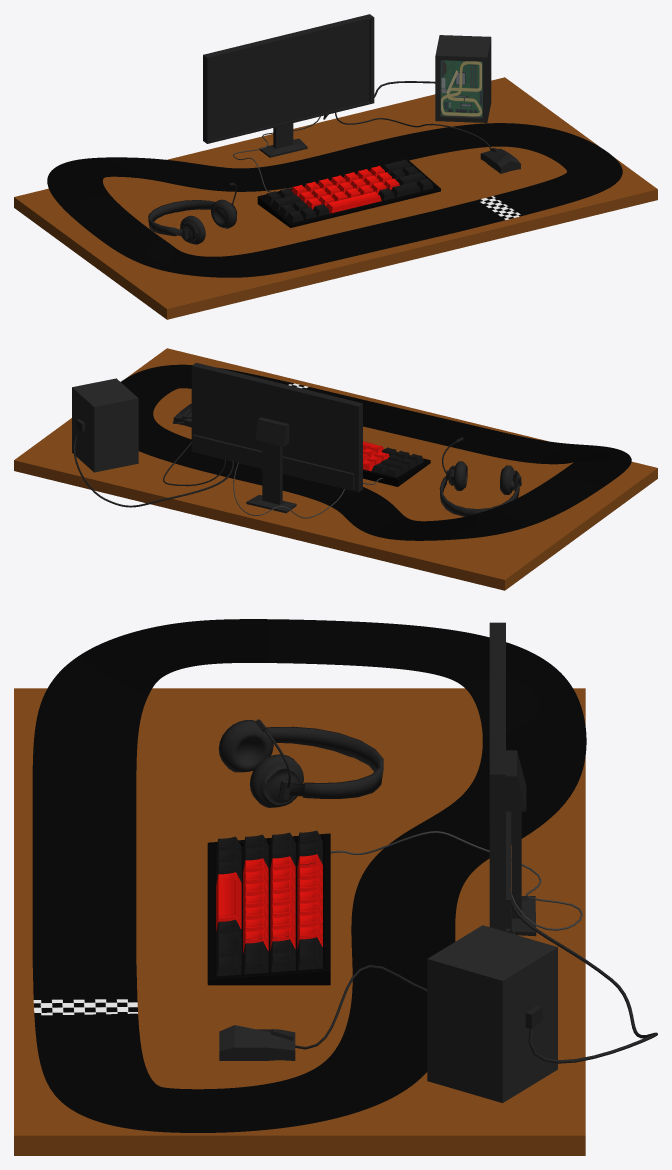
The model's file is HelpDesk.glb.
3 views of the same model, one above another, from view 1: azimuth 30°, elevation 25°; view 2: azimuth 150°, elevation 25°; view 3: azimuth 270°, elevation 25° (orthographic). The views are drawn at different scales.
Parts seen in each view (by area): view 1: table, Plane, monitor, keys, PC, headphoneSpek, keyBOARD, mouse; view 2: table, Plane, monitor, PC, headphoneSpek, keys, keyBOARD, pc wire; view 3: table, Plane, PC, keys, monitor, headphoneSpek, keyBOARD, mouse, pc wire, keyboardWire.
Part boxes in pixels (x1=…): table: x1=14, y1=77, x2=657, y2=319; Plane: x1=47, y1=123, x2=622, y2=277; monitor: x1=203, y1=14, x2=374, y2=157; keys: x1=264, y1=159, x2=433, y2=222; PC: x1=435, y1=35, x2=491, y2=122; headphoneSpek: x1=148, y1=199, x2=237, y2=244; keyBOARD: x1=257, y1=160, x2=440, y2=227; mouse: x1=480, y1=148, x2=520, y2=173; table: x1=14, y1=348, x2=657, y2=590; Plane: x1=121, y1=364, x2=631, y2=540; monitor: x1=191, y1=362, x2=362, y2=513; PC: x1=72, y1=378, x2=138, y2=472; headphoneSpek: x1=439, y1=461, x2=521, y2=516; keys: x1=363, y1=441, x2=423, y2=477; keyBOARD: x1=363, y1=449, x2=430, y2=486; pc wire: x1=73, y1=430, x2=233, y2=507; table: x1=14, y1=688, x2=585, y2=1155; Plane: x1=32, y1=619, x2=586, y2=1132; PC: x1=427, y1=925, x2=557, y2=1102; keys: x1=216, y1=830, x2=322, y2=976; monitor: x1=489, y1=622, x2=536, y2=936; headphoneSpek: x1=218, y1=720, x2=383, y2=807; keyBOARD: x1=207, y1=833, x2=330, y2=985; mouse: x1=219, y1=1025, x2=295, y2=1060; pc wire: x1=511, y1=897, x2=657, y2=1063; keyboardWire: x1=330, y1=831, x2=582, y2=930.
Bounding box in the file's own units: 174 × 42.33 × 104.
9 materials, 2 textured.
